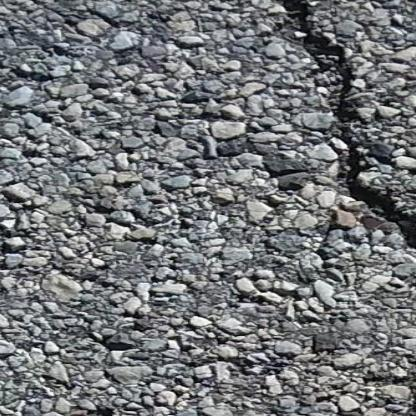Cracks: (273, 0, 416, 273)
